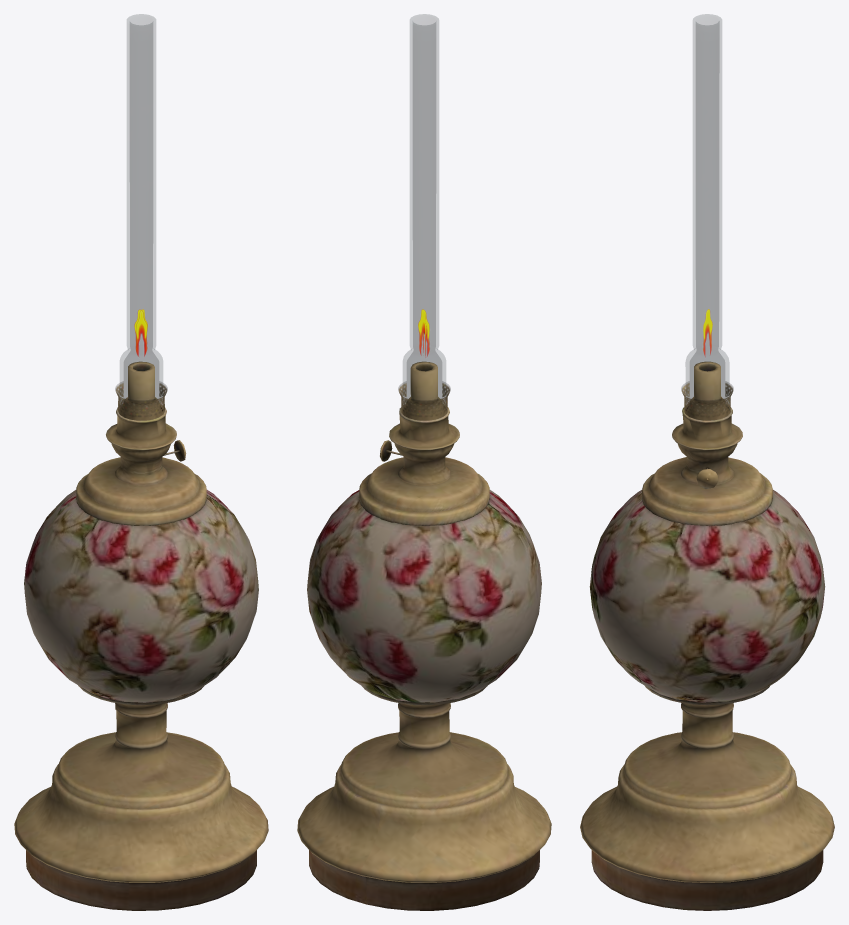
Rendered from vintage_oil_lamp.glb.
3 views of the same model, side by side, from view 1: azimuth 30°, elevation 25°; view 2: azimuth 150°, elevation 25°; view 3: azimuth 270°, elevation 25° (orthographic).
Visible parts, largest first — view 1: vintage_oil_lamp, vintage_oil_lamp_glass; view 2: vintage_oil_lamp, vintage_oil_lamp_glass; view 3: vintage_oil_lamp, vintage_oil_lamp_glass.
Boxes of the visible parts, bbox=[...] form: vintage_oil_lamp: bbox=[14, 361, 268, 910]; vintage_oil_lamp_glass: bbox=[115, 14, 167, 420]; vintage_oil_lamp: bbox=[297, 361, 551, 910]; vintage_oil_lamp_glass: bbox=[398, 14, 450, 420]; vintage_oil_lamp: bbox=[580, 361, 834, 910]; vintage_oil_lamp_glass: bbox=[681, 14, 733, 420].
Bounding box in the file's own units: 0.22 × 0.8016 × 0.22.
Materials: 3 (3 with a texture image).
